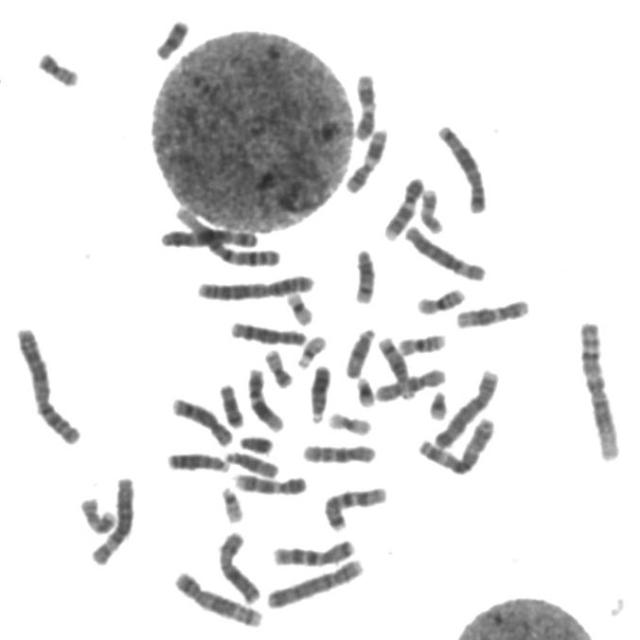A1: (573, 313, 624, 464), (169, 201, 282, 269)
A2: (10, 320, 84, 447), (190, 267, 317, 303)
A3: (412, 411, 497, 476), (156, 221, 260, 251)
B4: (428, 362, 502, 450), (260, 552, 366, 611)
B5: (169, 565, 264, 629), (432, 117, 488, 215)
C10: (370, 362, 448, 403), (296, 437, 378, 466)
C11: (340, 122, 390, 195), (348, 67, 379, 142)
C12: (241, 362, 286, 433), (450, 292, 532, 330)
C6: (399, 219, 488, 282), (84, 470, 138, 567)
C7: (318, 480, 390, 533), (266, 532, 358, 568)
C8: (166, 391, 234, 448), (224, 314, 309, 348)
C9: (378, 170, 426, 242), (228, 467, 309, 497)
D13: (161, 446, 232, 474), (304, 359, 333, 424)
D14: (373, 331, 418, 402), (347, 241, 378, 305)
D15: (339, 322, 378, 380), (220, 445, 280, 479)
E16: (411, 282, 468, 315), (393, 327, 448, 357)
E17: (74, 490, 117, 536), (415, 182, 446, 235)
E18: (149, 12, 191, 62), (213, 378, 246, 429)
F19: (322, 406, 373, 436), (280, 285, 316, 327)
F20: (32, 45, 82, 88), (258, 344, 294, 389)
G21: (350, 370, 378, 408), (423, 384, 450, 422)
G22: (292, 330, 328, 370), (215, 481, 245, 523)
X: (211, 524, 263, 605)
Y: (233, 429, 275, 455)
